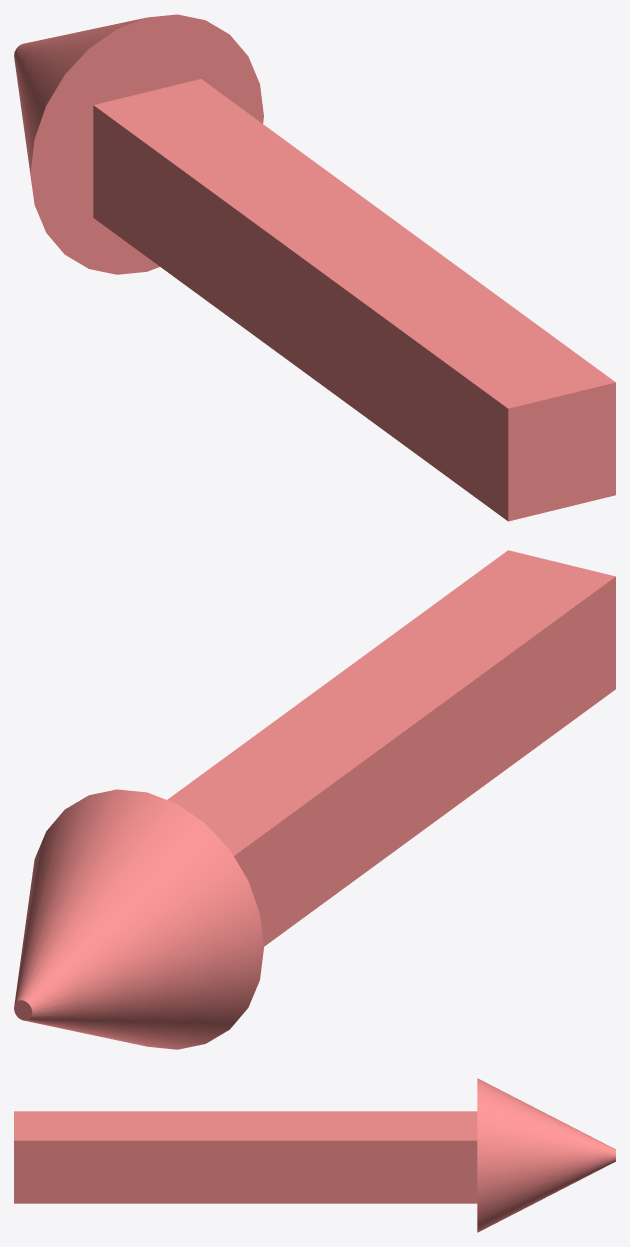
File: pinkarrow.fbx
3 renders of one model, top to bottom at view 1: azimuth 30°, elevation 25°; view 2: azimuth 150°, elevation 25°; view 3: azimuth 270°, elevation 25°, orthographic. The views are drawn at different scales.
Parts seen in each view (by area): view 1: Box001, Cone001; view 2: Box001, Cone001; view 3: Box001, Cone001.
Boxes of the visible parts, x1,y1,x2,y2 form: Box001: [93, 79, 615, 521]; Cone001: [14, 14, 263, 274]; Box001: [167, 550, 615, 946]; Cone001: [14, 789, 263, 1049]; Box001: [14, 1111, 477, 1203]; Cone001: [477, 1078, 615, 1232].
Size of the model in its own units: 3.25 by 3.38 by 12.99.
